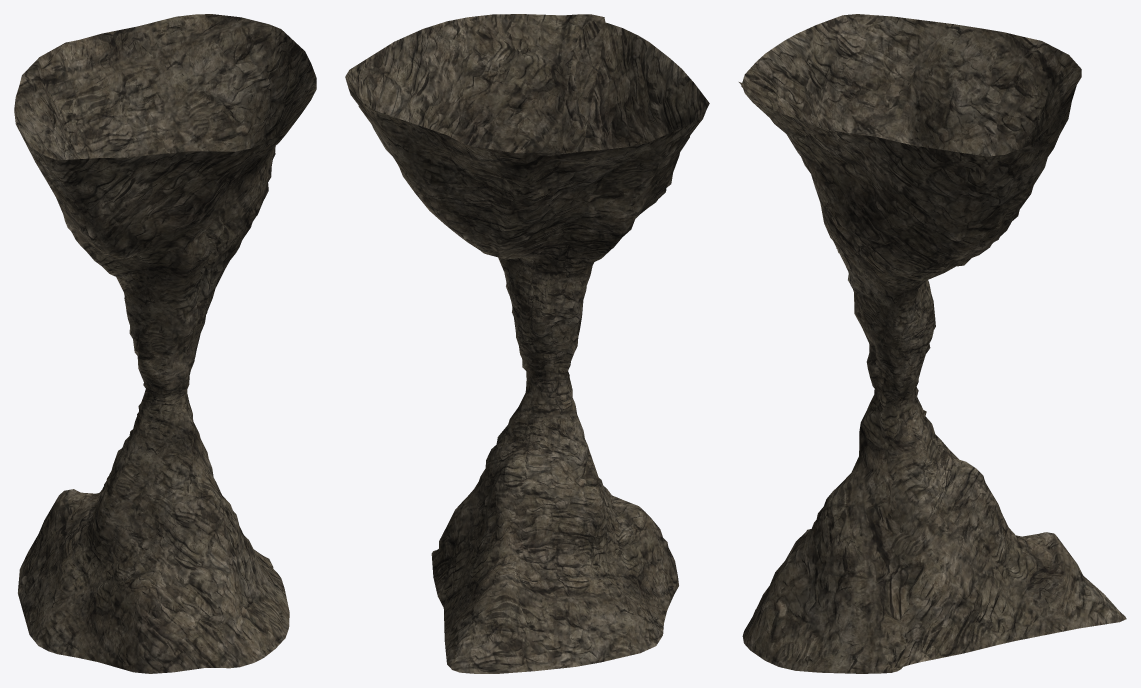
The model's file is MEP_C_Bolt_04_N.fbx.
3 views of the same model, side by side, from view 1: azimuth 30°, elevation 25°; view 2: azimuth 150°, elevation 25°; view 3: azimuth 270°, elevation 25° (orthographic). The views are drawn at different scales.
Visible parts, largest first — view 1: MEP_C_Bolt_04; view 2: MEP_C_Bolt_04; view 3: MEP_C_Bolt_04.
Boxes of the visible parts, left/top/right/bottom form: MEP_C_Bolt_04: left=14, top=14, right=316, bottom=673; MEP_C_Bolt_04: left=345, top=14, right=709, bottom=673; MEP_C_Bolt_04: left=739, top=14, right=1126, bottom=673.
Size of what is drawn, in the model's own units: 1638 by 2855 by 1726.
1 material, 1 textured.
